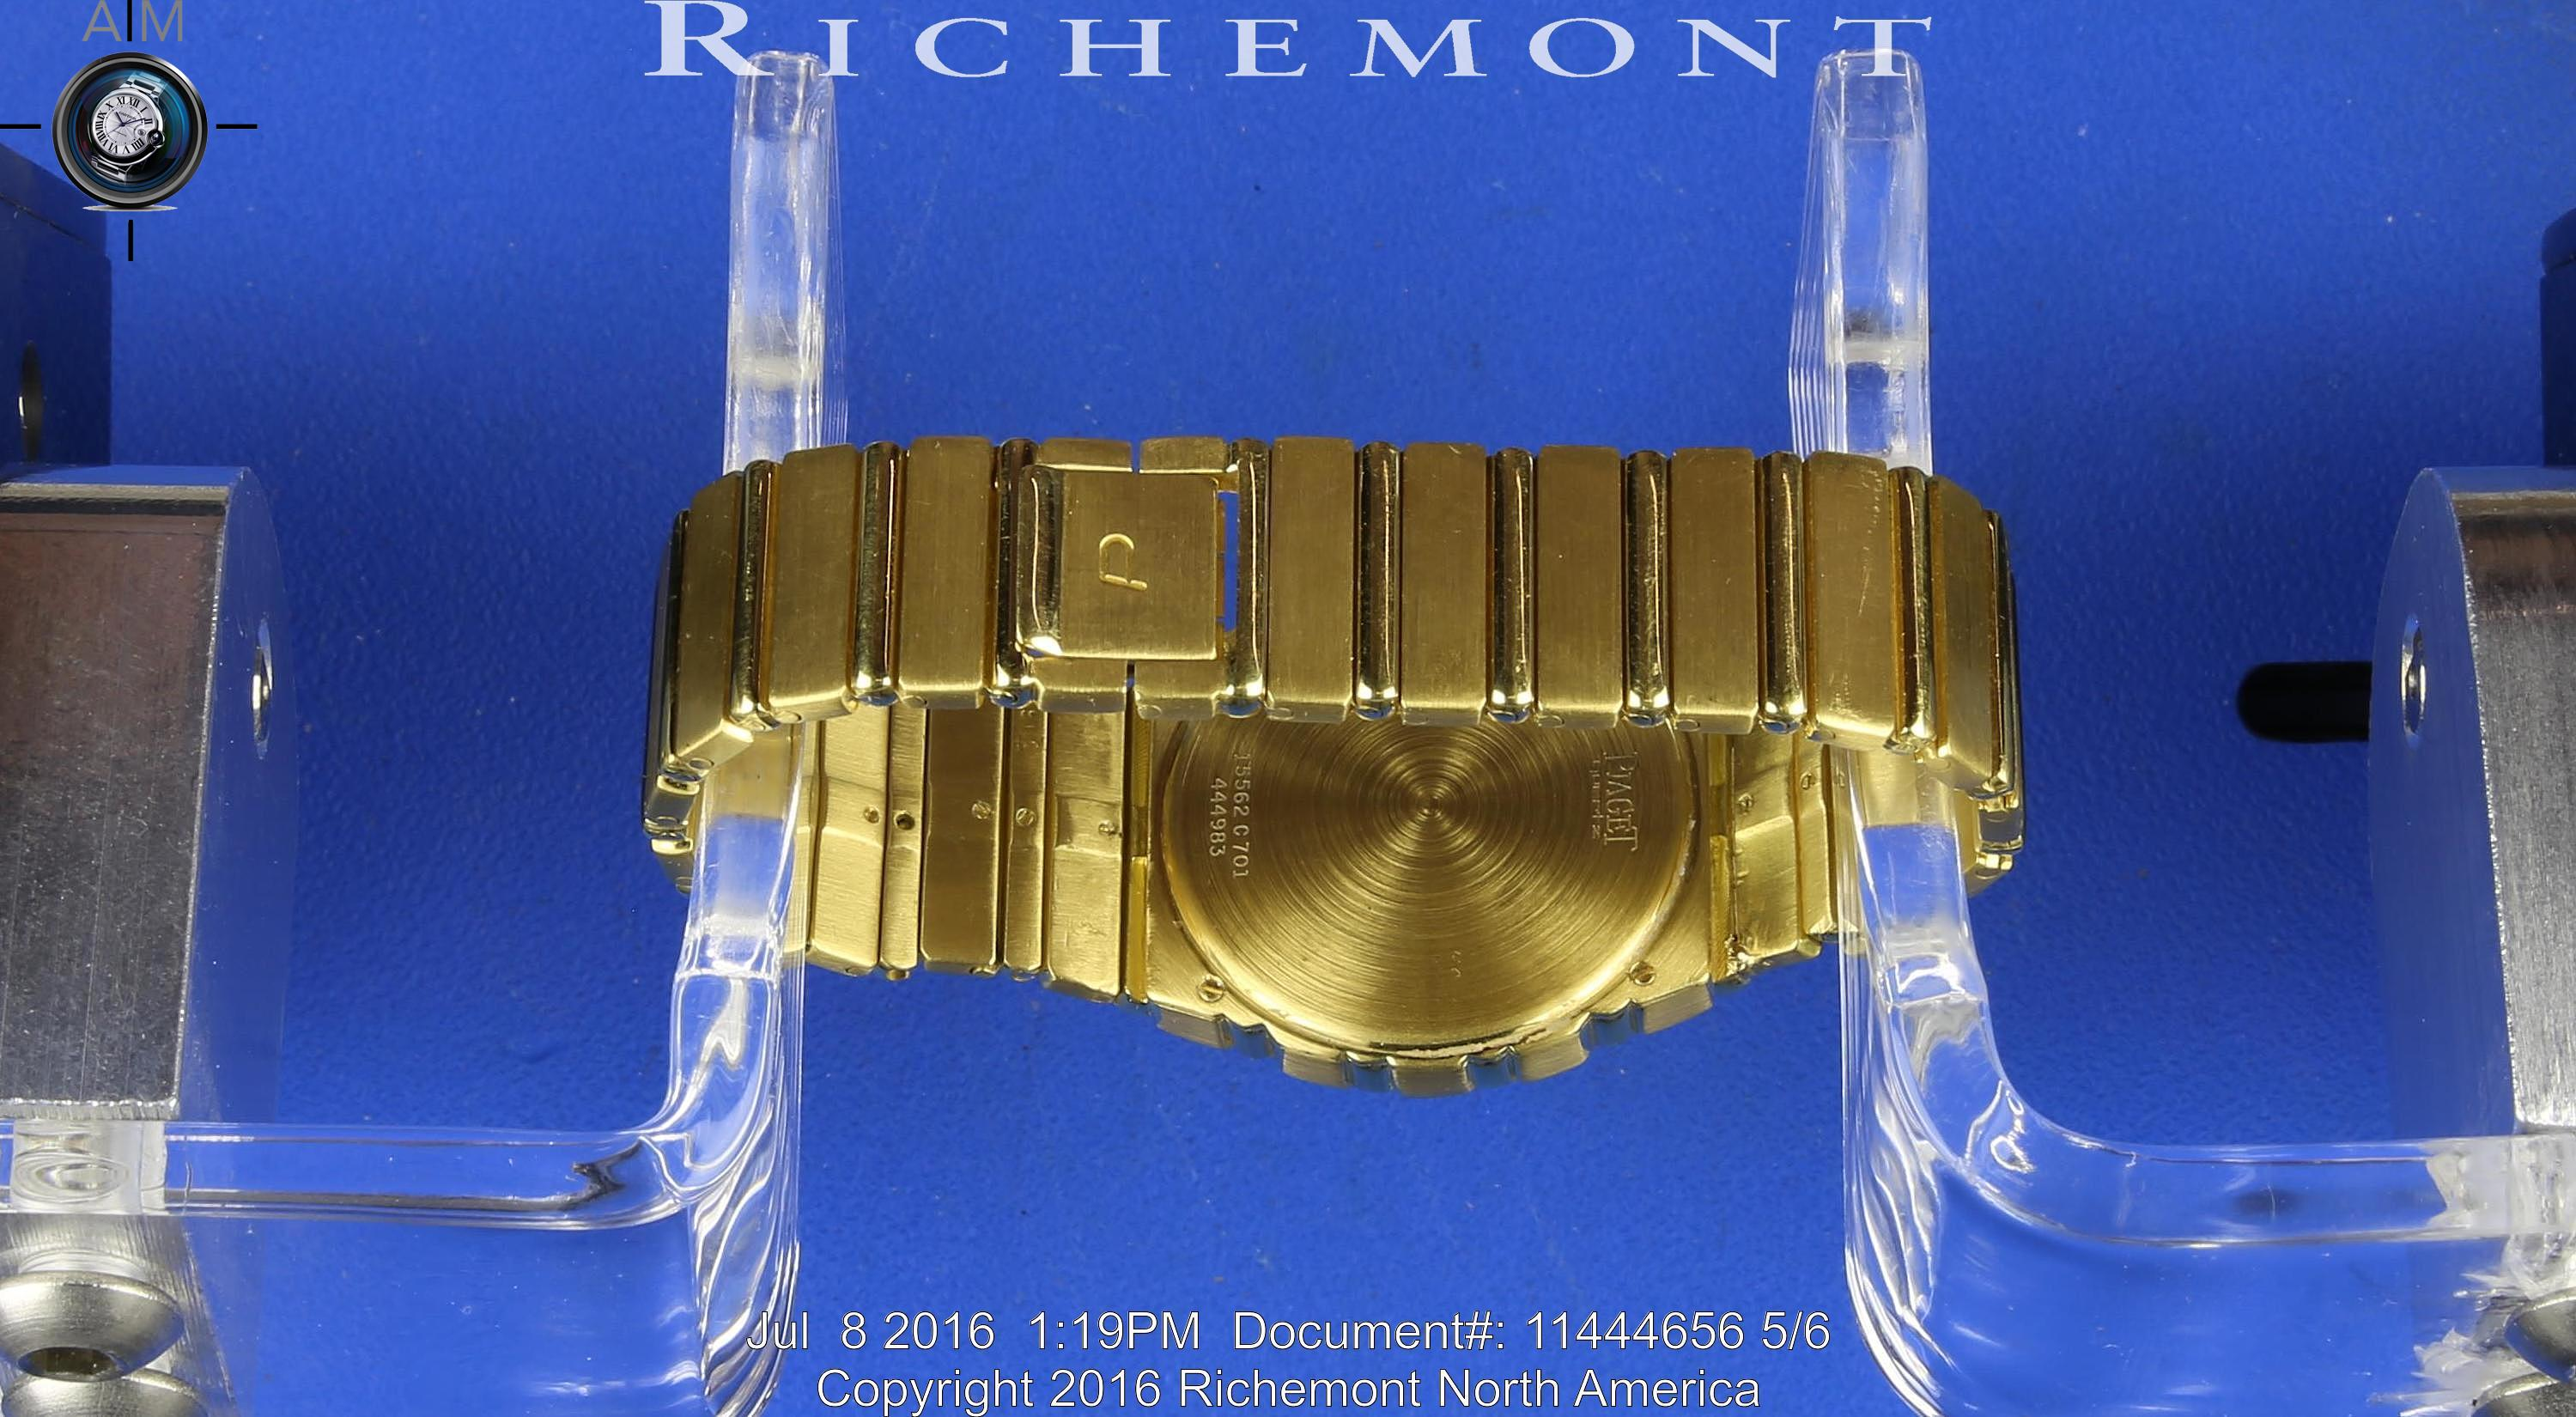Watch BackCase: (1148, 712, 1730, 1110)
